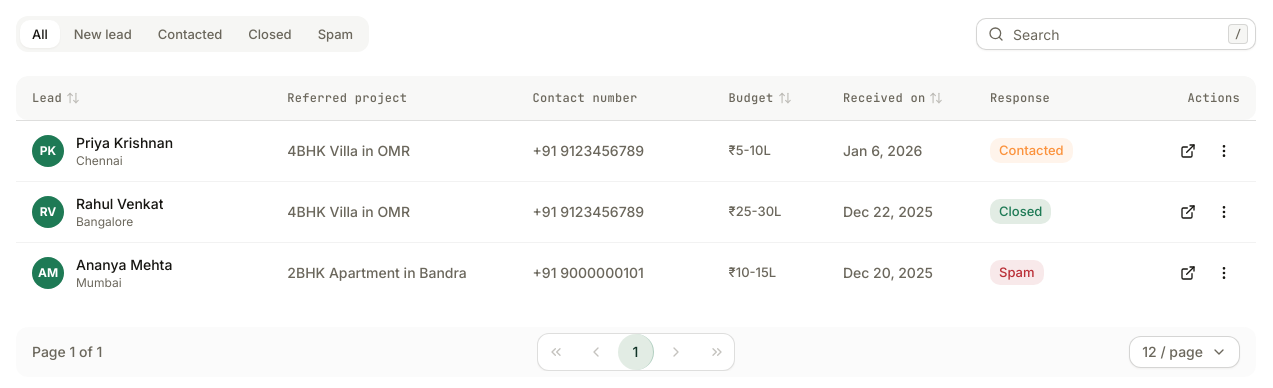
Scenario: DesignerLeadsList › uses contact and archive icons in the lead action menu
The width and height of the screenshot is (1273, 388).
Click the button named "more actions for priya krishnan" at [1224, 150], box 1208,134 -> 1240,166
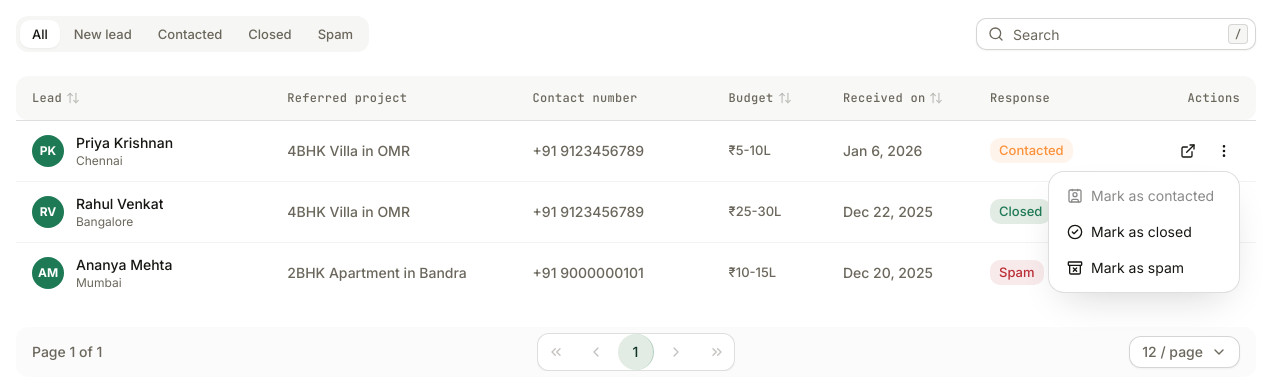
Now the icon with class "lucide-contact" is shown, box 1067,188 -> 1083,204
Now the icon with class "lucide-archive-x" is shown, box 1067,260 -> 1083,276
